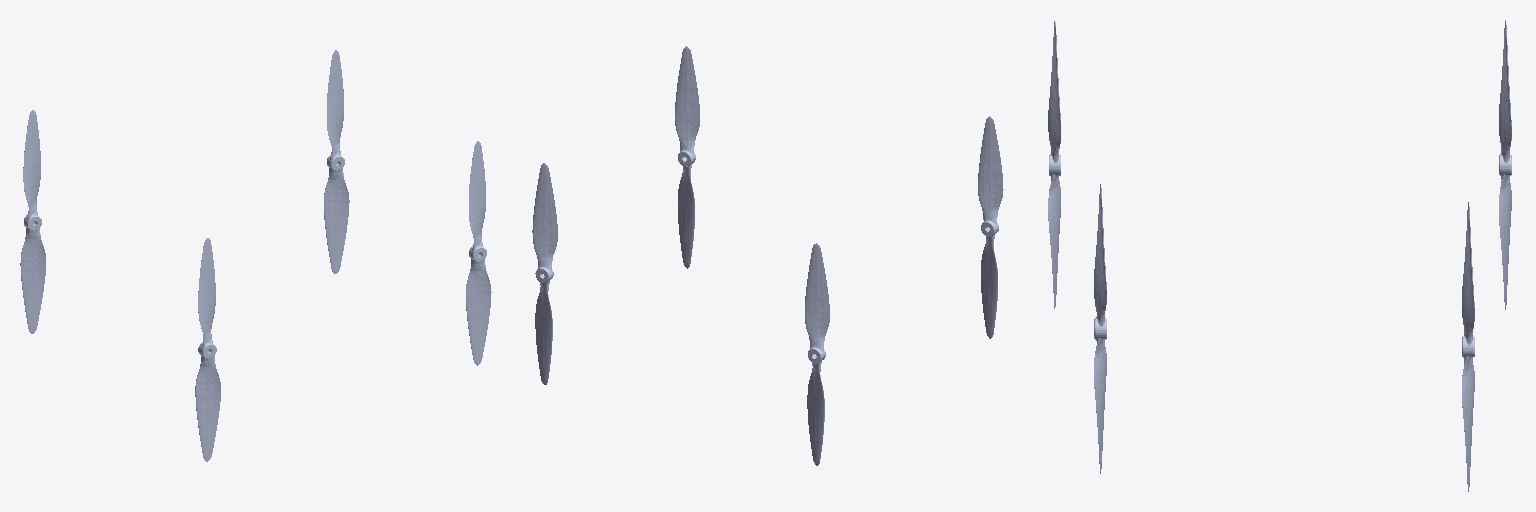
robot.urdf — s500_quadrotor:
<?xml version="1.0" encoding="utf-8"?>
<!-- This URDF was automatically created by SolidWorks to URDF Exporter! Originally created by [author] ([email redacted]) 
     Commit Version: 1.6.0-4-g7f85cfe  Build Version: 1.6.7995.38578
     For more information, please see http://wiki.ros.org/sw_urdf_exporter -->
<robot
  name="s500_quadrotor">
  <link name="base_link">
    <inertial>
      <origin
        xyz="0 0 0"
        rpy="0 0 0" />
      <mass
        value="1.772" />
      <inertia
        ixx="0.0165"
        ixy="0.0"
        ixz="0.0"
        iyy="0.0186"
        iyz="0.0"
        izz="0.0250" />
    </inertial>
    <visual>
      <origin
        xyz="0 0 0"
        rpy="0 0 0" />
      <geometry>
        <mesh
          filename="package://eagle_mpc_yaml/s500_robot/s500_quadrotor/meshes/base_link.STL" />
      </geometry>
      <material
        name="">
        <color
          rgba="0.752941176470588 0.752941176470588 0.752941176470588 1" />
      </material>
    </visual>
    <collision>
      <origin
        xyz="0 0 0"
        rpy="0 0 0" />
      <geometry>
        <mesh
          filename="package://eagle_mpc_yaml/s500_robot/s500_quadrotor/meshes/base_link.STL" />
      </geometry>
    </collision>
  </link>
  <link name="rotor_1">
    <inertial>
      <origin
        xyz="3.9471E-08 0.025041 -1.4592E-05"
        rpy="0 0 0" />
      <mass
        value="0.010198" />
      <inertia
        ixx="3.3719E-05"
        ixy="7.4123E-13"
        ixz="-4.3241E-07"
        iyy="3.3918E-05"
        iyz="-3.8834E-11"
        izz="2.8343E-07" />
    </inertial>
    <visual>
      <origin
        xyz="0 0 0"
        rpy="0 0 0" />
      <geometry>
        <mesh
          filename="package://eagle_mpc_yaml/s500_robot/s500_quadrotor/meshes/rotor_1.STL" />
      </geometry>
      <material
        name="">
        <color
          rgba="0.79216 0.81961 0.93333 1" />
      </material>
    </visual>
    <collision>
      <origin
        xyz="0 0 0"
        rpy="0 0 0" />
      <geometry>
        <mesh
          filename="package://eagle_mpc_yaml/s500_robot/s500_quadrotor/meshes/rotor_1.STL" />
      </geometry>
    </collision>
  </link>
  <joint name="rotor_joint_1" type="fixed">
    <origin
      xyz="0.171 0.171 0.045"
      rpy="0 0 0" />
    <parent
      link="base_link" />
    <child
      link="rotor_1" />
    <axis
      xyz="0 1 0" />
  </joint>
  <link name="rotor_2">
    <inertial>
      <origin
        xyz="8.1559E-08 0.027195 -1.4122E-05"
        rpy="0 0 0" />
      <mass
        value="0.010198" />
      <inertia
        ixx="3.3719E-05"
        ixy="-8.3558E-13"
        ixz="-4.3246E-07"
        iyy="3.3919E-05"
        iyz="-4.2468E-11"
        izz="2.8344E-07" />
    </inertial>
    <visual>
      <origin
        xyz="0 0 0"
        rpy="0 0 0" />
      <geometry>
        <mesh
          filename="package://eagle_mpc_yaml/s500_robot/s500_quadrotor/meshes/rotor_2.STL" />
      </geometry>
      <material
        name="">
        <color
          rgba="0.79216 0.81961 0.93333 1" />
      </material>
    </visual>
    <collision>
      <origin
        xyz="0 0 0"
        rpy="0 0 0" />
      <geometry>
        <mesh
          filename="package://eagle_mpc_yaml/s500_robot/s500_quadrotor/meshes/rotor_2.STL" />
      </geometry>
    </collision>
  </link>
  <joint name="rotor_joint_2" type="fixed">
    <origin
      xyz="-0.171 0.171 0.045"
      rpy="0 0 0" />
    <parent
      link="base_link" />
    <child
      link="rotor_2" />
    <axis
      xyz="0 1 0" />
  </joint>
  <link name="rotor_3">
    <inertial>
      <origin
        xyz="9.9115E-08 0.011499 -1.3684E-05"
        rpy="0 0 0" />
      <mass
        value="0.010198" />
      <inertia
        ixx="3.3719E-05"
        ixy="1.6825E-12"
        ixz="-4.3246E-07"
        iyy="3.3919E-05"
        iyz="-5.4463E-11"
        izz="2.8343E-07" />
    </inertial>
    <visual>
      <origin
        xyz="0 0 0"
        rpy="0 0 0" />
      <geometry>
        <mesh
          filename="package://eagle_mpc_yaml/s500_robot/s500_quadrotor/meshes/rotor_3.STL" />
      </geometry>
      <material
        name="">
        <color
          rgba="0.79216 0.81961 0.93333 1" />
      </material>
    </visual>
    <collision>
      <origin
        xyz="0 0 0"
        rpy="0 0 0" />
      <geometry>
        <mesh
          filename="package://eagle_mpc_yaml/s500_robot/s500_quadrotor/meshes/rotor_3.STL" />
      </geometry>
    </collision>
  </link>
  <joint name="rotor_joint_3" type="fixed">
    <origin
      xyz="-0.171 -0.171 0.045"
      rpy="0 0 0" />
    <parent
      link="base_link" />
    <child
      link="rotor_3" />
    <axis
      xyz="0 1 0" />
  </joint>
  <link name="rotor_4">
    <inertial>
      <origin
        xyz="1.4103E-07 0.009346 -1.3967E-05"
        rpy="0 0 0" />
      <mass
        value="0.010198" />
      <inertia
        ixx="3.3719E-05"
        ixy="1.1737E-12"
        ixz="-4.3243E-07"
        iyy="3.3918E-05"
        iyz="-4.6991E-11"
        izz="2.8343E-07" />
    </inertial>
    <visual>
      <origin
        xyz="0 0 0"
        rpy="0 0 0" />
      <geometry>
        <mesh
          filename="package://eagle_mpc_yaml/s500_robot/s500_quadrotor/meshes/rotor_4.STL" />
      </geometry>
      <material
        name="">
        <color
          rgba="0.79216 0.81961 0.93333 1" />
      </material>
    </visual>
    <collision>
      <origin
        xyz="0 0 0"
        rpy="0 0 0" />
      <geometry>
        <mesh
          filename="package://eagle_mpc_yaml/s500_robot/s500_quadrotor/meshes/rotor_4.STL" />
      </geometry>
    </collision>
  </link>
  <joint name="rotor_joint_4" type="fixed">
    <origin
      xyz="0.1701 -0.1701 0.0603"
      rpy="0 0 0" />
    <parent
      link="base_link" />
    <child
      link="rotor_4" />
    <axis
      xyz="0 1 0" />
  </joint>
</robot>

--- Render facts (derived) ---
3 views of the same robot in one strip: view 1: azimuth 30°, elevation 25°; view 2: azimuth 150°, elevation 25°; view 3: azimuth 270°, elevation 25° (orthographic).
Model s500_quadrotor with 5 links and 4 joints (4 fixed), rooted at base_link, posed every joint at zero.
Visible links, largest first — view 1: rotor_3, rotor_2, rotor_1, rotor_4; view 2: rotor_1, rotor_2, rotor_3, rotor_4; view 3: rotor_2, rotor_1, rotor_4, rotor_3.
Link boxes in pixels (x1,y1,x2,y2): rotor_3: (195,238,220,461); rotor_2: (20,110,45,333); rotor_1: (324,50,349,273); rotor_4: (466,141,491,365); rotor_1: (532,163,557,384); rotor_2: (805,243,829,465); rotor_3: (978,116,1003,338); rotor_4: (675,46,699,268); rotor_2: (1499,20,1511,309); rotor_1: (1462,202,1474,491); rotor_4: (1094,184,1106,473); rotor_3: (1048,21,1060,308).
Size in the robot's own frame: 0.369 by 0.3692 by 0.2693 metres.
4 mesh visuals loaded from 5 distinct referenced files (4 binary STL); not drawn: 1 (reference not matched to a file when rendering).